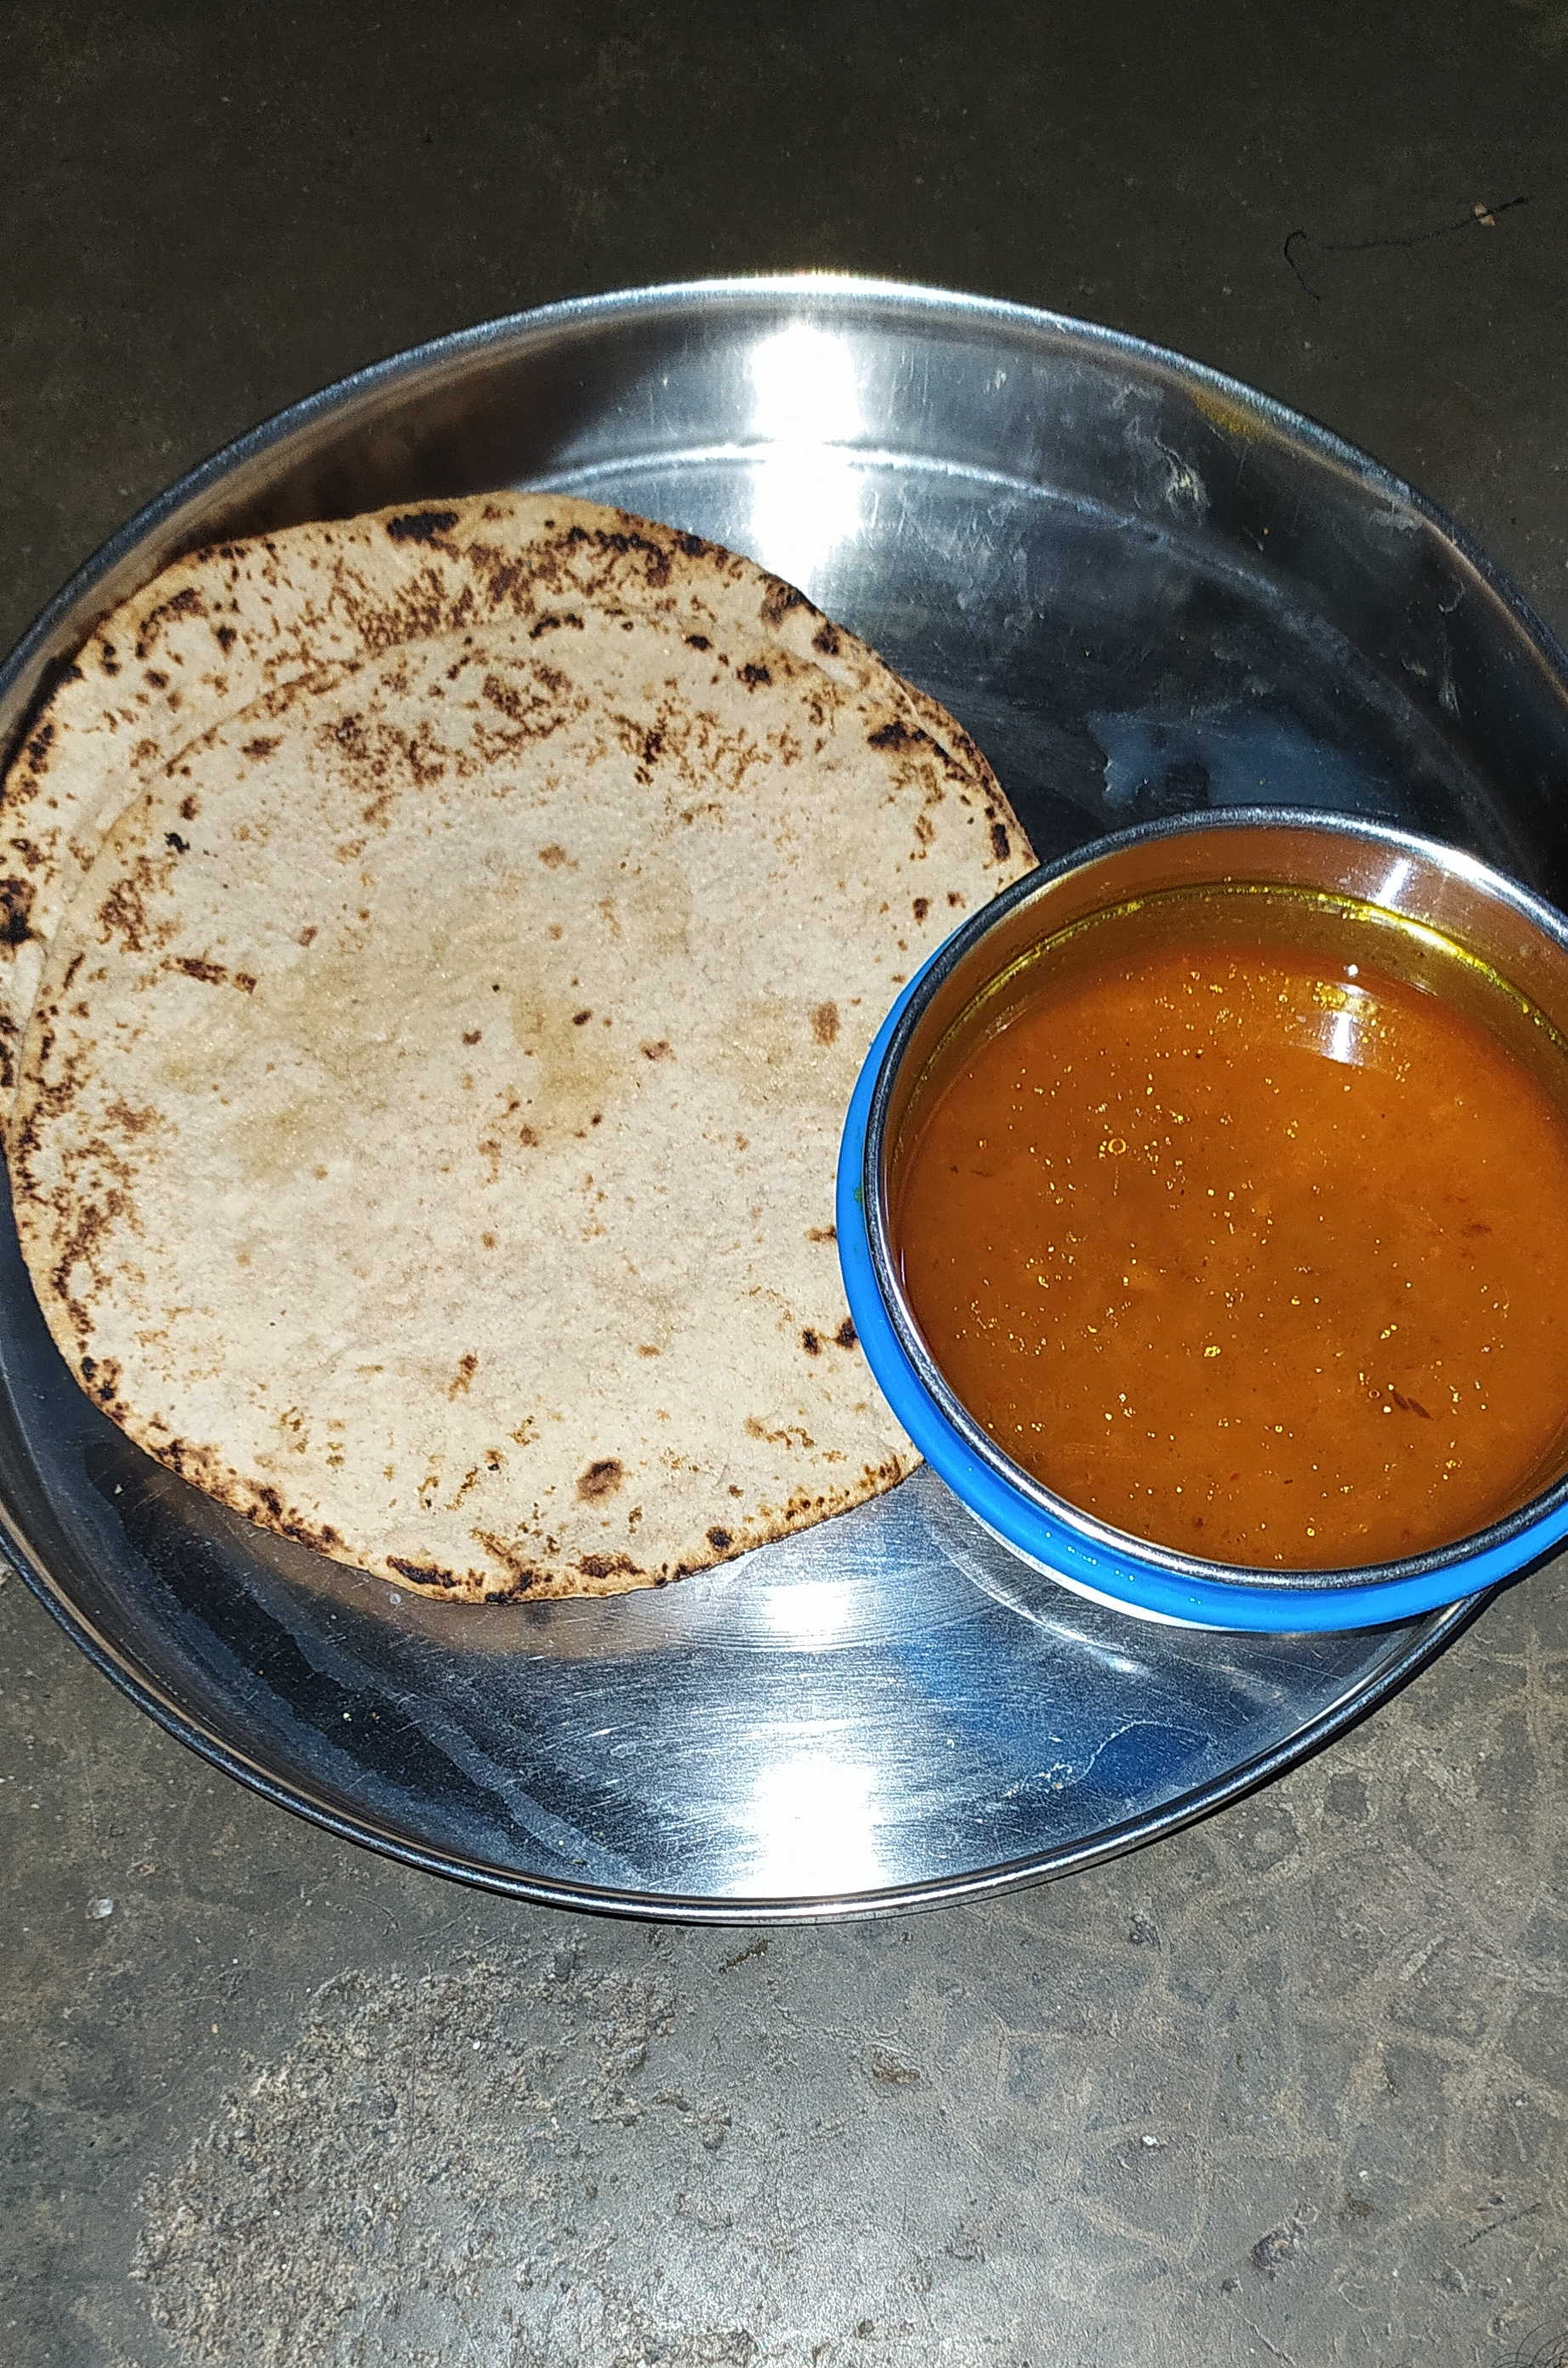food: (0, 478, 1568, 1612)
